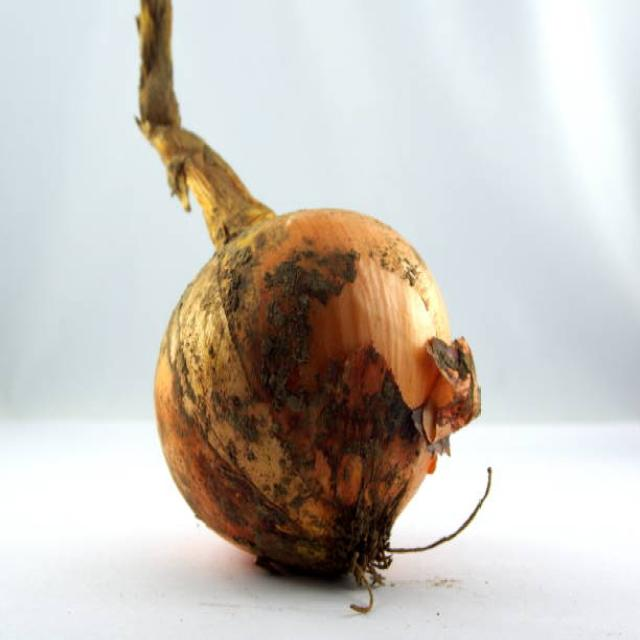mechanical_damage: (92, 0, 499, 622)
